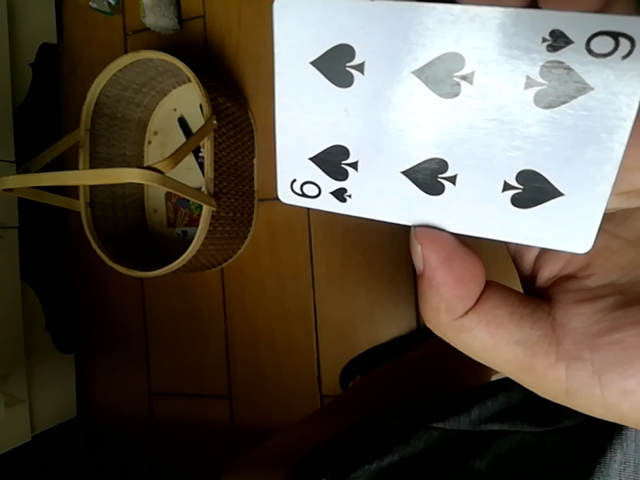ht 6: (270, 1, 638, 264)
